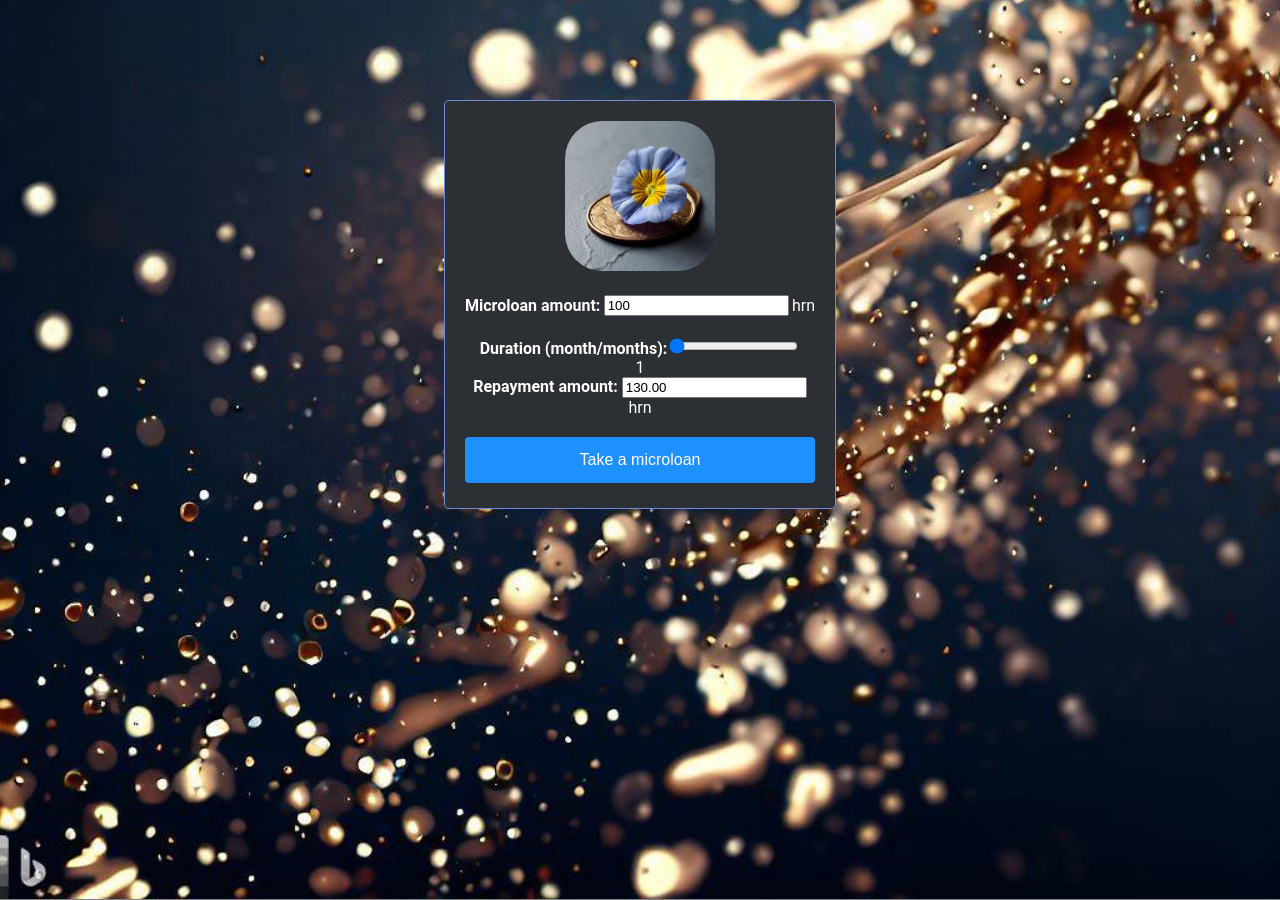
Test: TakeLoan component › updates repaymentAmount input when loanDuration value changes
Set the slider with id "loanDuration" to "5": (718, 346) left=669, top=338, right=798, bottom=354
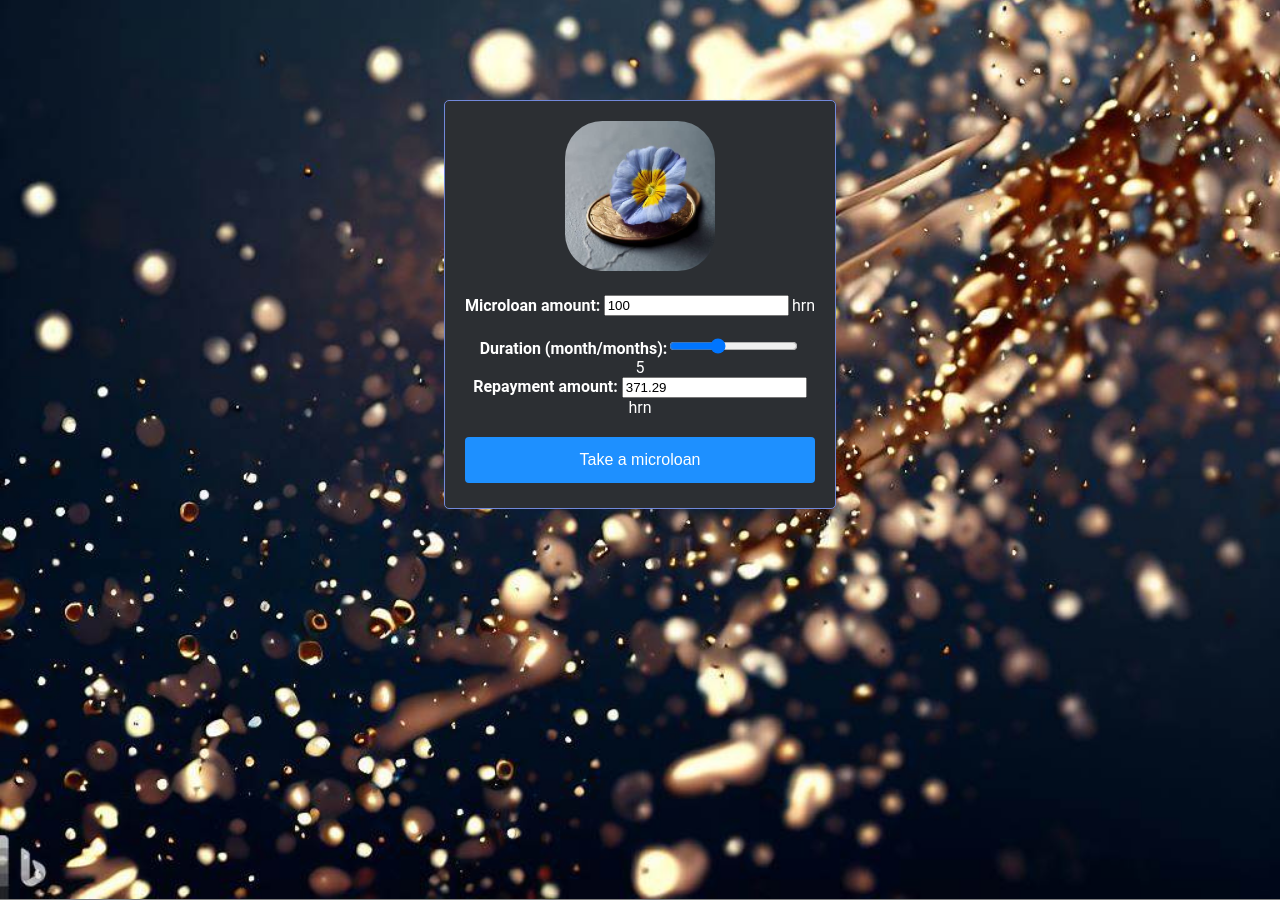
Expected: the field with id "repaymentAmount" does not hold "130.00", left=622, top=377, right=807, bottom=398
